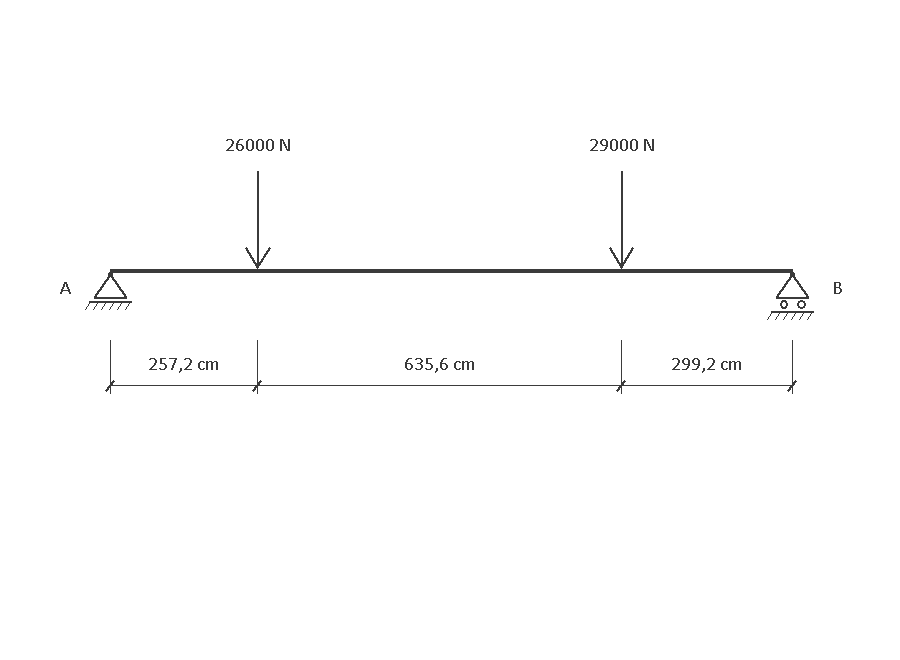pin_support: (85, 272, 132, 310)
point_load: (245, 171, 271, 269), (609, 171, 634, 269)
roller_support: (767, 272, 814, 320)
